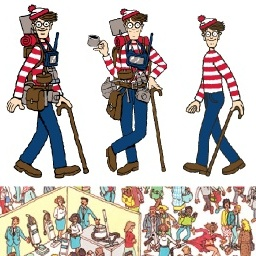waldo: (4, 5, 73, 112), (87, 9, 169, 93), (184, 13, 248, 111), (27, 4, 60, 43), (197, 14, 227, 53), (121, 9, 150, 44)
